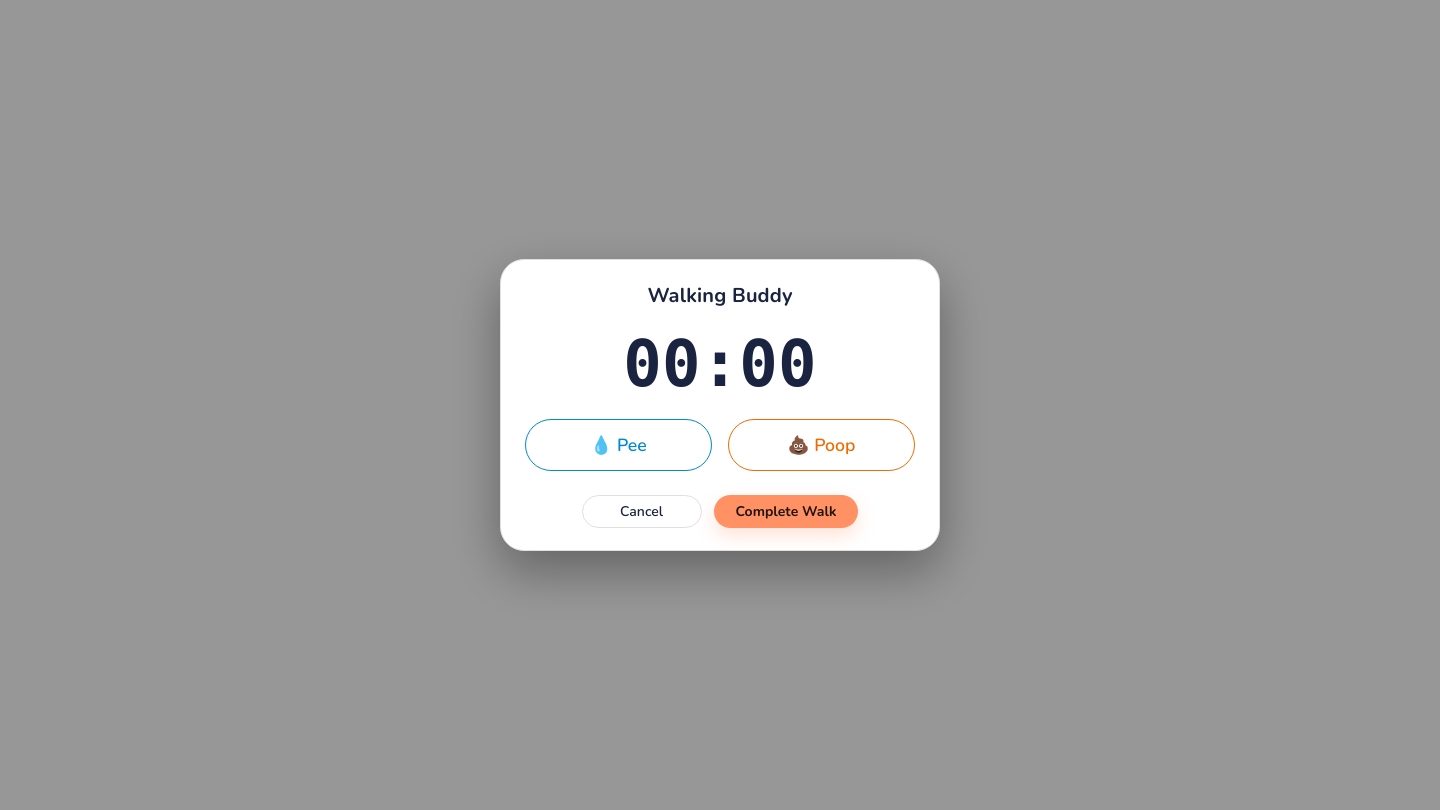
WalkTimerModal › Bathroom events › tracks multiple bathroom events
Click the button "💧 Pee" at x=618, y=445, box [525,419,712,471]
Wait 300000 ms
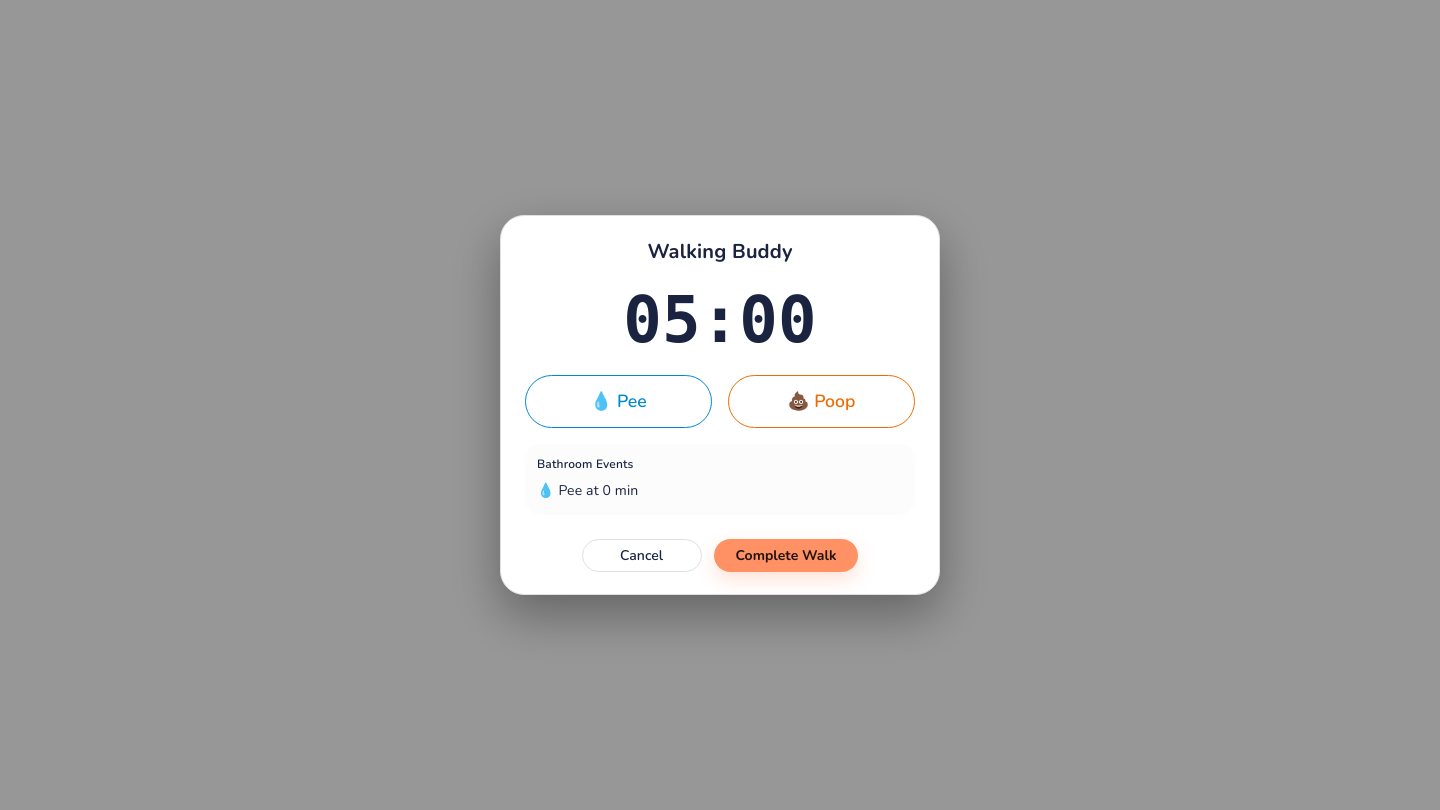
Click the button "💩 Poop" at x=822, y=401, box [728,375,915,428]
Wait 300000 ms
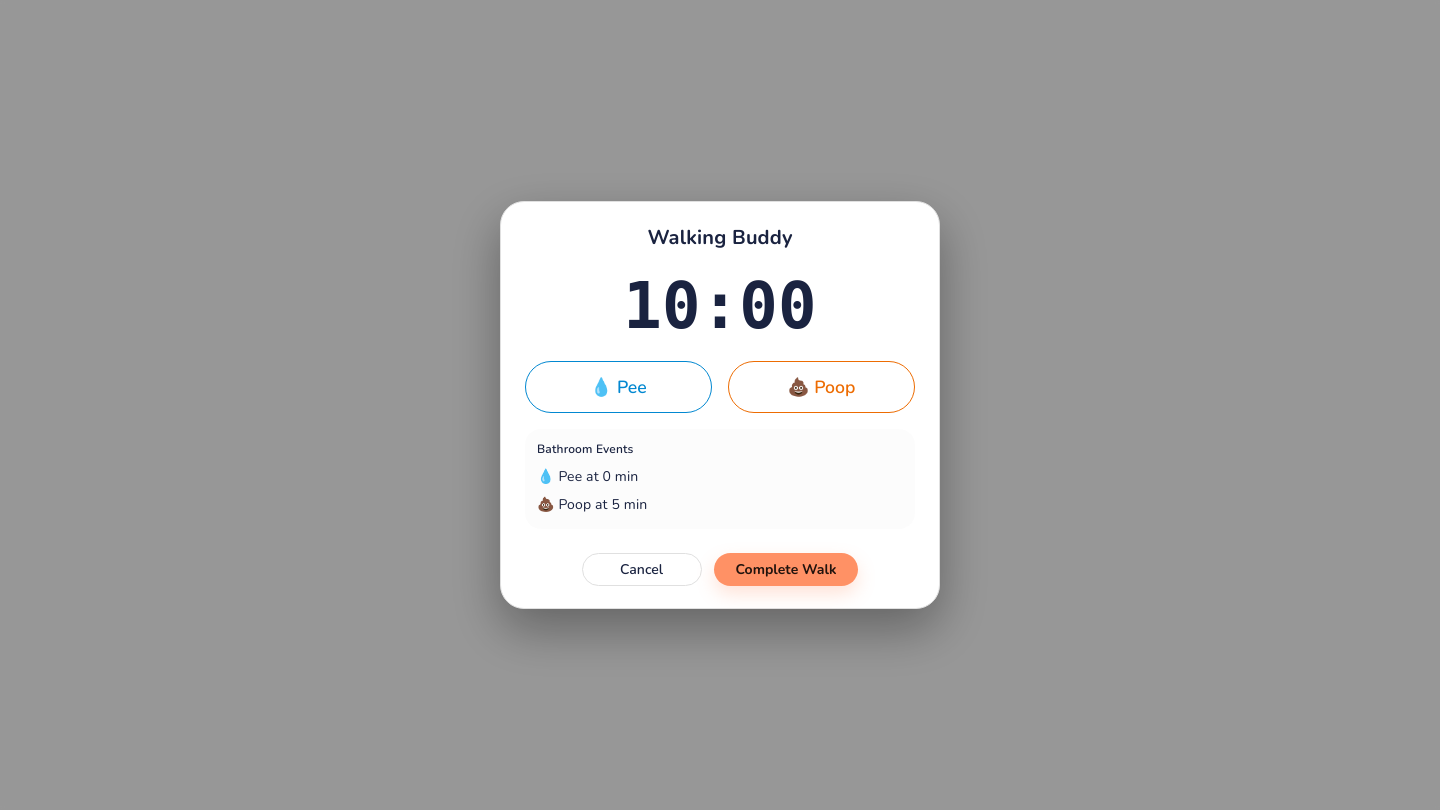
Click the button "💧 Pee" at x=618, y=387, box [525,361,712,413]
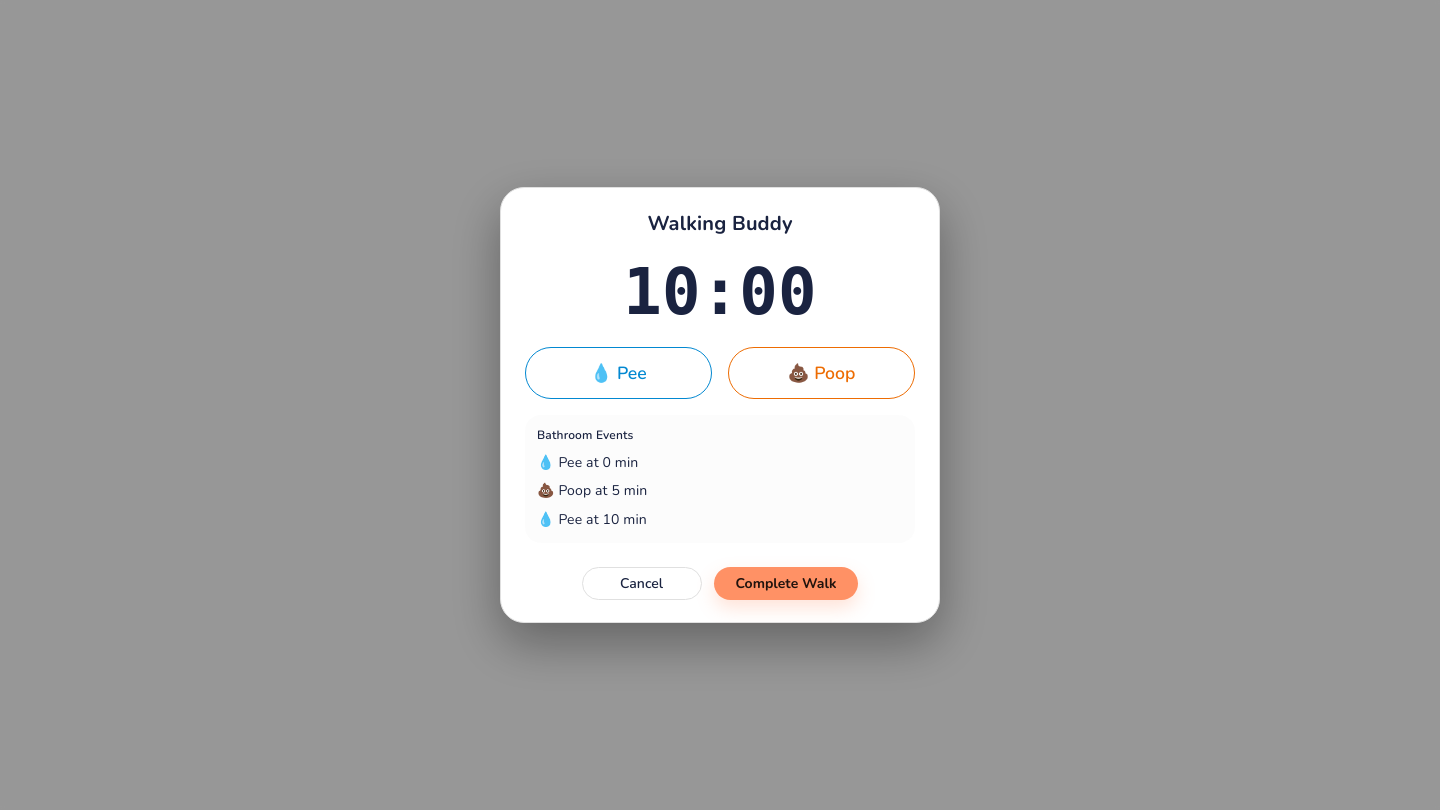
expect the text "💧 Pee at 0 min" is shown: met, box [537,453,638,472]
expect the text "💩 Poop at 5 min" is shown: met, box [537,481,647,500]
expect the text "💧 Pee at 10 min" is shown: met, box [537,510,647,529]
